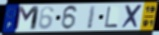6: (61, 4, 80, 31), (37, 5, 55, 31)
I: (86, 5, 97, 30)
L: (104, 6, 119, 29)
M: (12, 5, 41, 32)
X: (121, 4, 144, 30)
